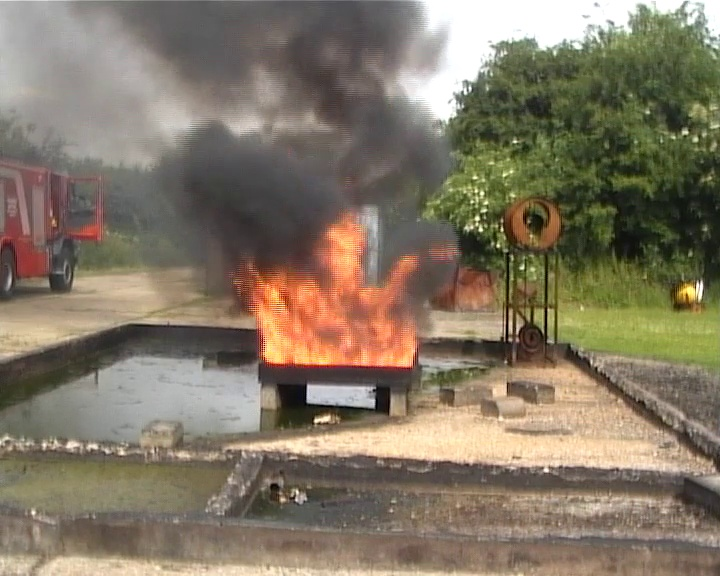fire: (254, 222, 419, 364)
